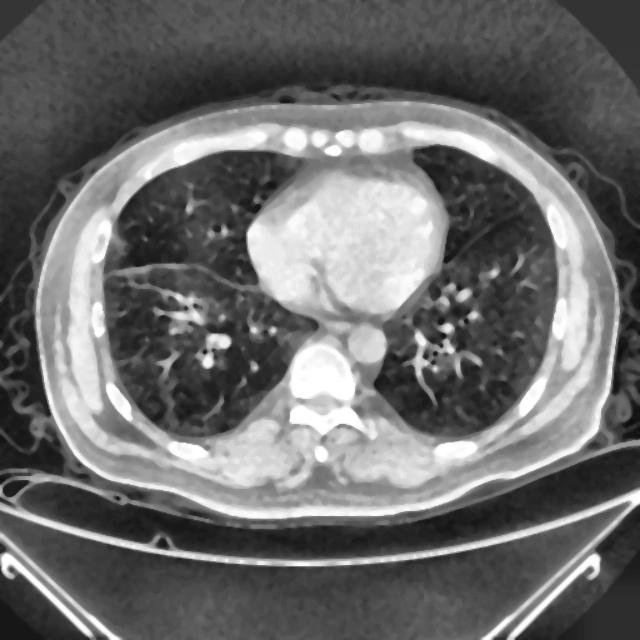covid: (32, 84, 621, 528)
